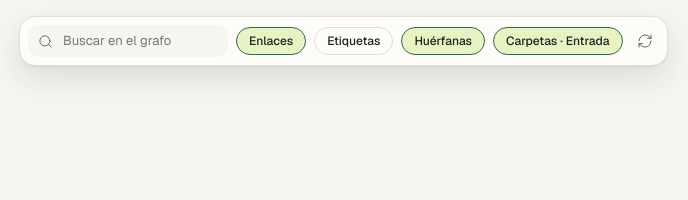
it: GraphFilterPanel folders › Bóveda clears the restriction
What coordinates should you click on to do the following:
click the button with test id "toggle-folders"
I would click on:
 (558, 41)
Its box is [493,27,622,55].
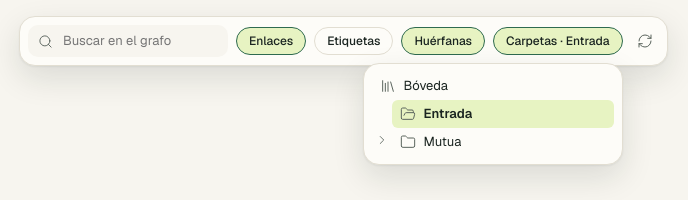
What coordinates should you click on to do the following:
click the list item with test id "folder-option-root"
I would click on:
 (492, 86)
Its box is [372,72,614,100].
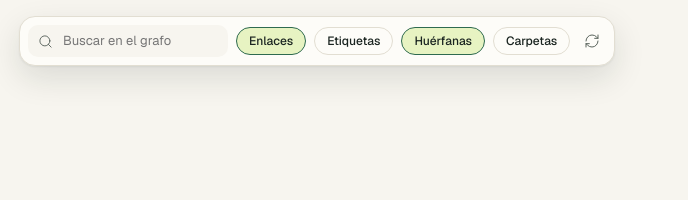
Now the element with test id "folder-popover" is gone
